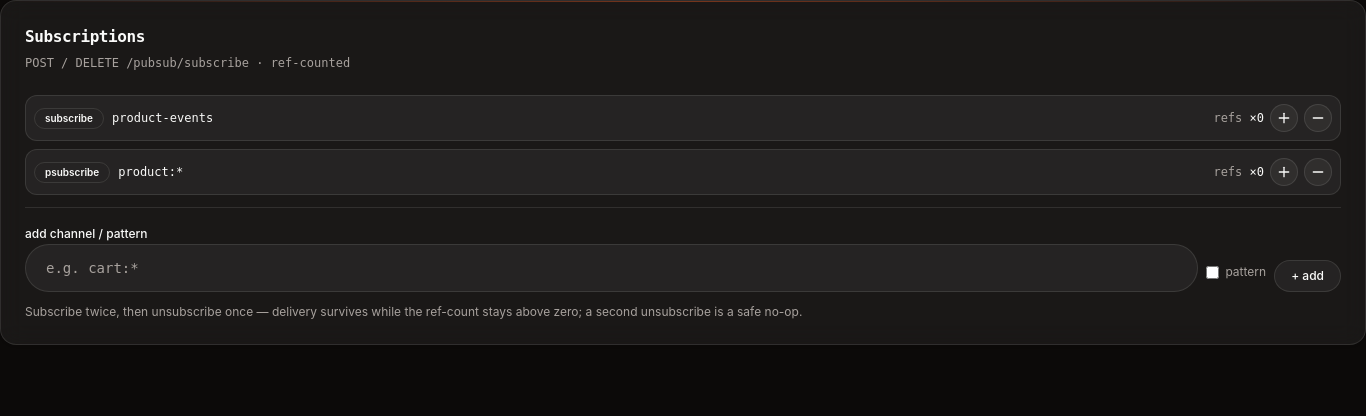
Test case: SubscriptionManager › adds a new exact-channel row and clears the input afterward
In the field labelled "add channel / pattern": [612, 268] box [25,244,1198,292], type "cart-events"
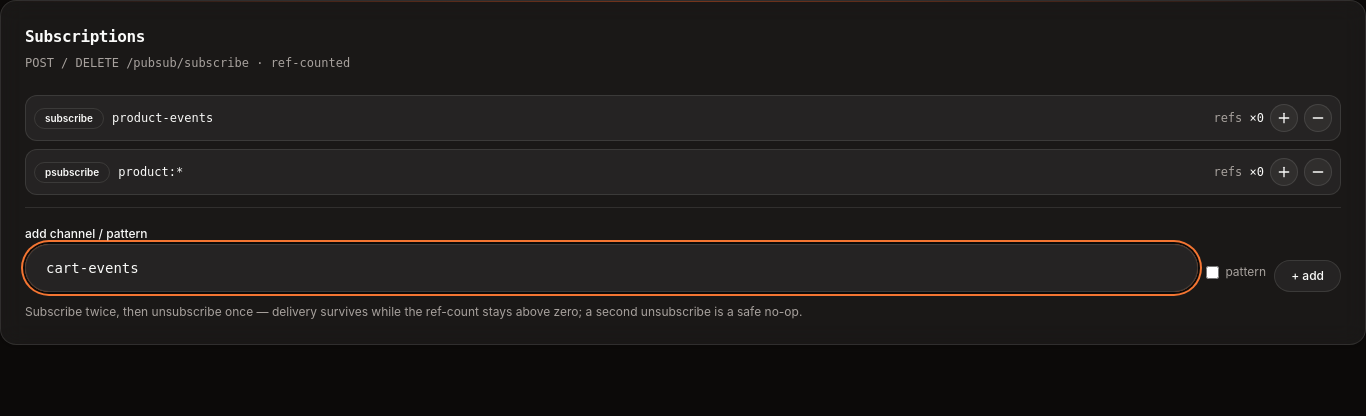
Click the button "+ add": [1308, 276] box [1274,260,1341,292]
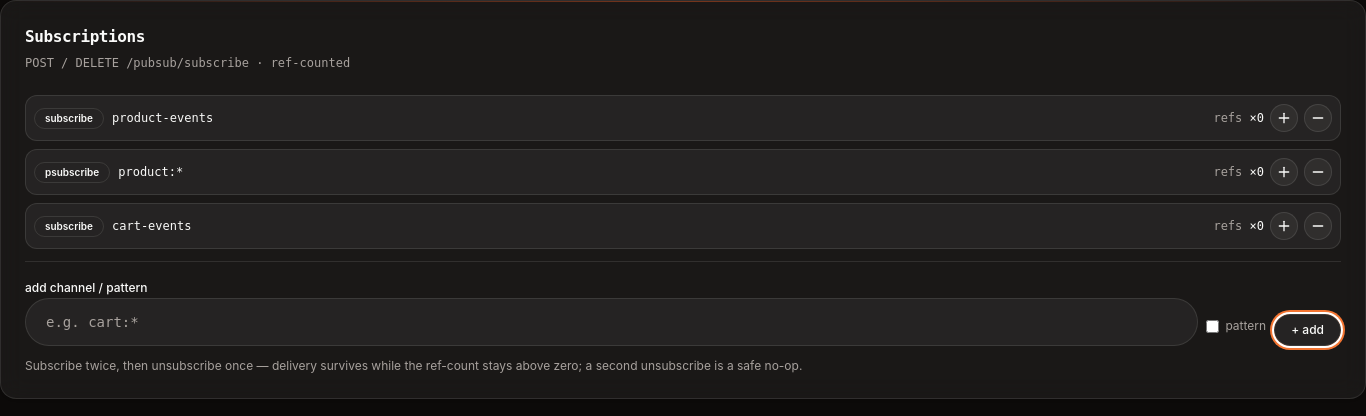
Check: the text "cart-events" is shown, box [112,218,192,234]
Check: the field labelled "add channel / pattern" is empty, box [25,298,1198,346]
